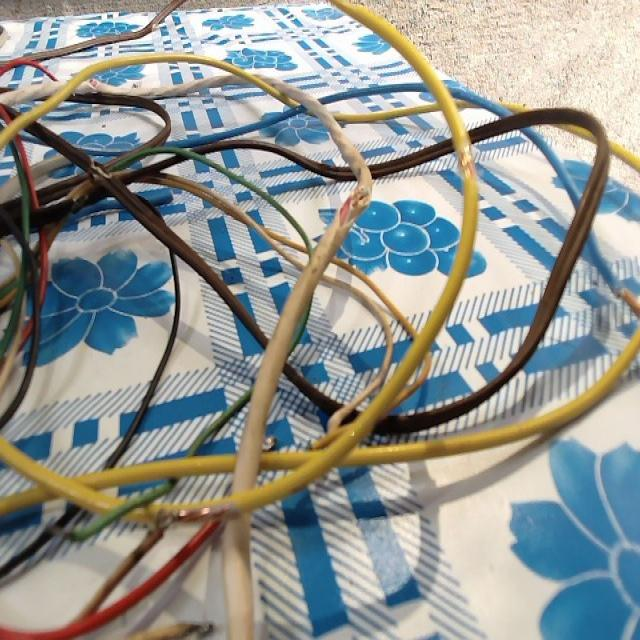-: (152, 498, 243, 526), (334, 182, 377, 230), (453, 137, 479, 184), (84, 152, 116, 187), (609, 280, 639, 316), (84, 72, 106, 92)
